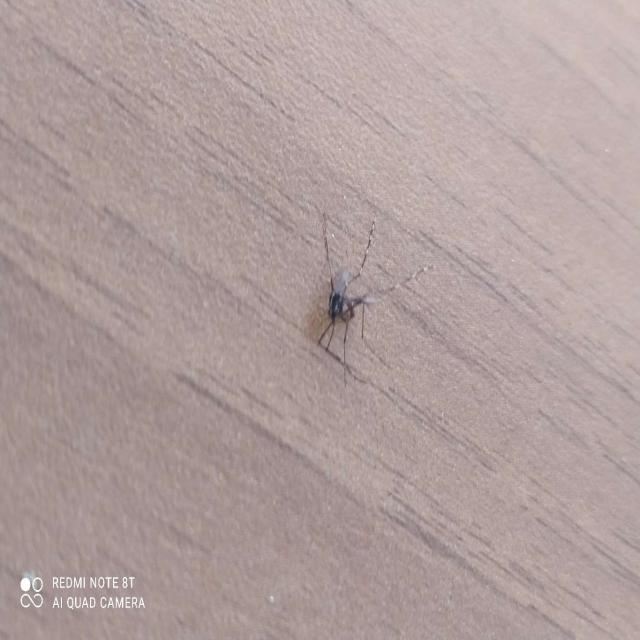albopictus: (298, 209, 382, 387)
